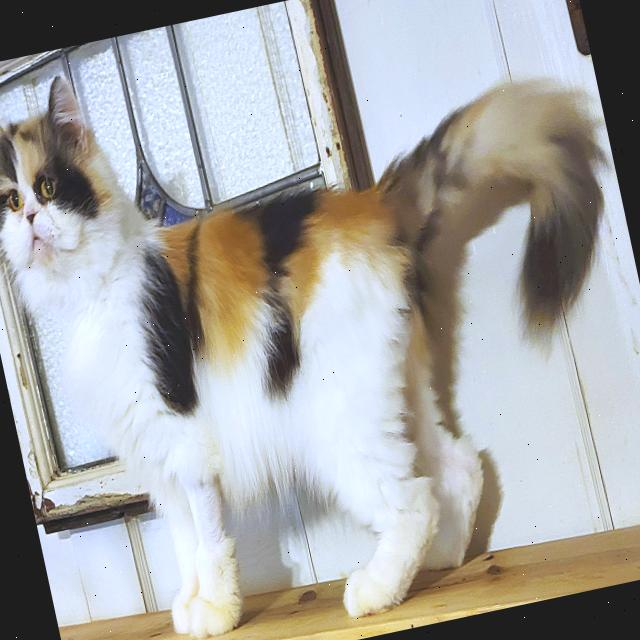persian_cat: (0, 59, 137, 317)
